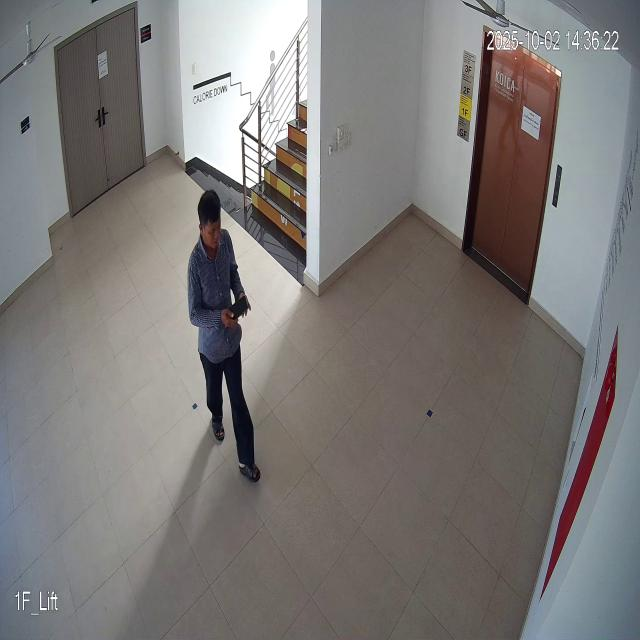face: (196, 186, 226, 252)
